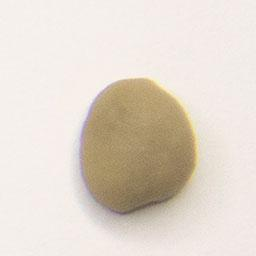premium: (76, 75, 199, 216)
